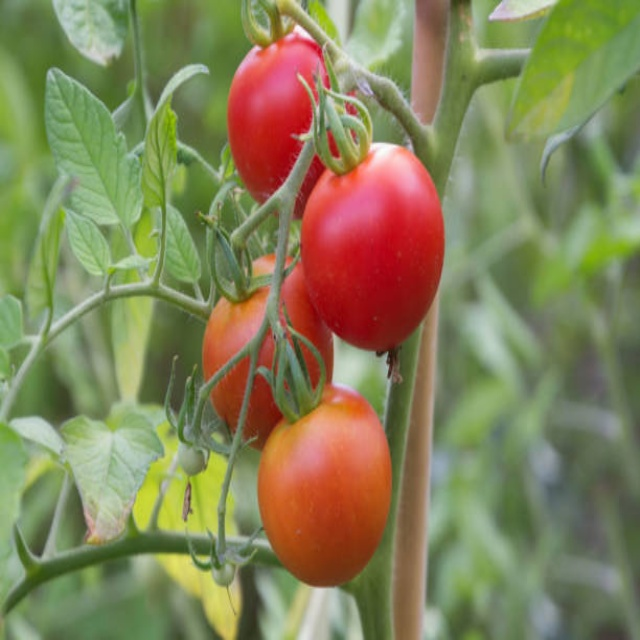tomato: (298, 144, 446, 364), (257, 391, 409, 599), (215, 31, 376, 224), (197, 262, 334, 431)
